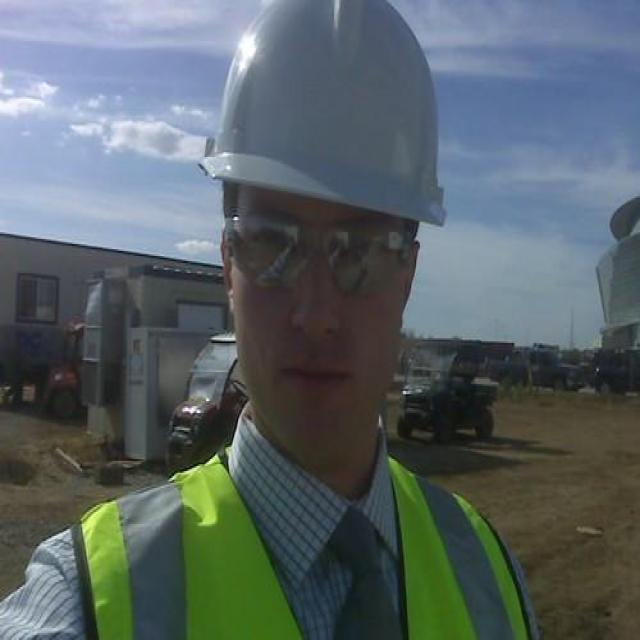Vest: (64, 449, 532, 636)
